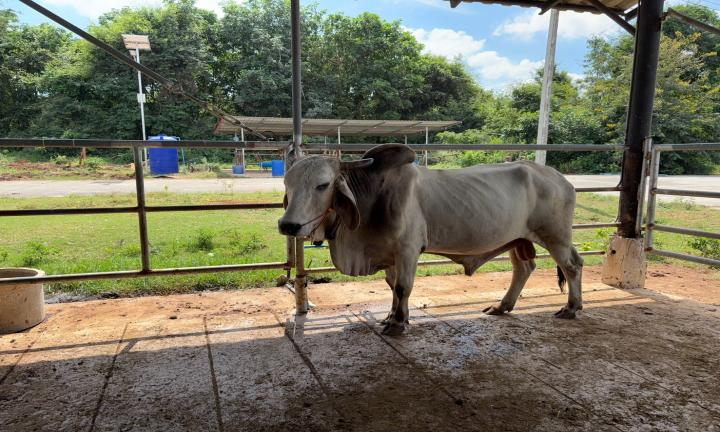Brahman: (278, 144, 583, 335)
